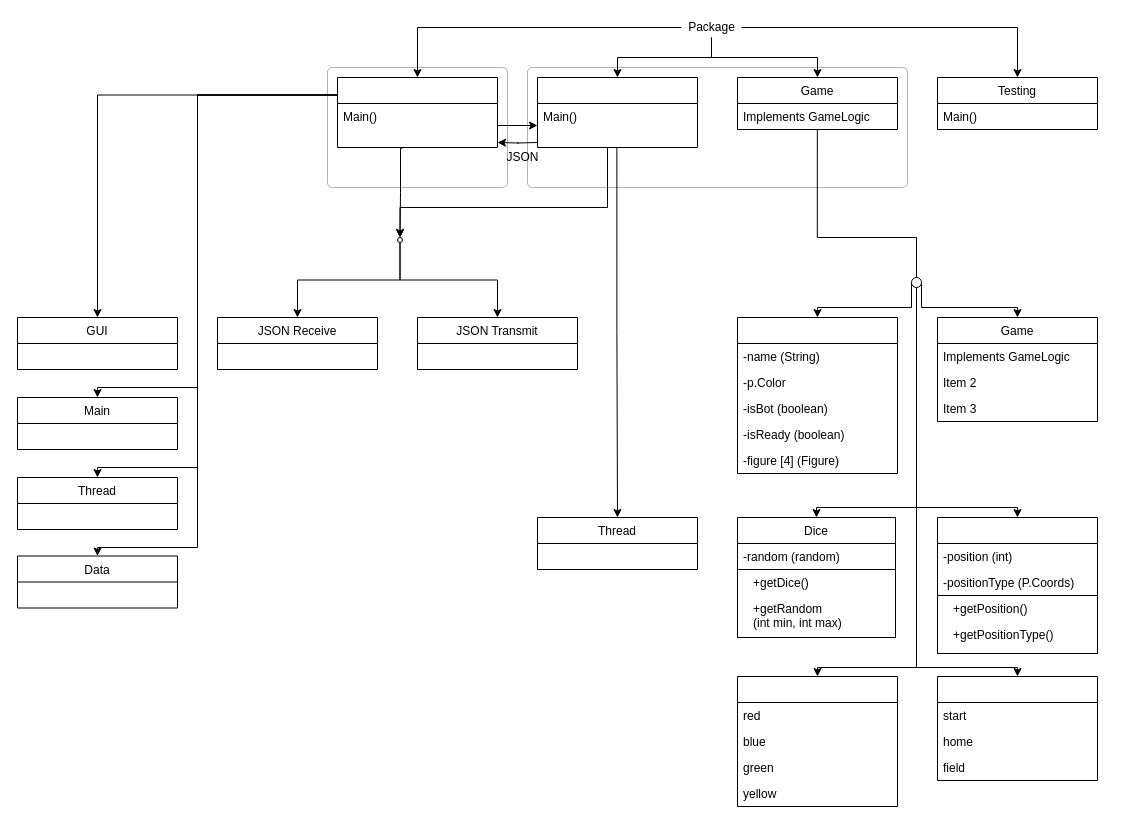
Image size: 1129x826. Some labels were removed from this diagram. Each missing label, with the box of its shape:
Client: (336, 76, 498, 148)
Enum P.Color: (736, 676, 898, 806)
Enum P.Cords type: (936, 676, 1098, 780)
Figure: (936, 516, 1098, 654)
Player: (736, 316, 898, 474)
Server: (536, 76, 698, 148)
